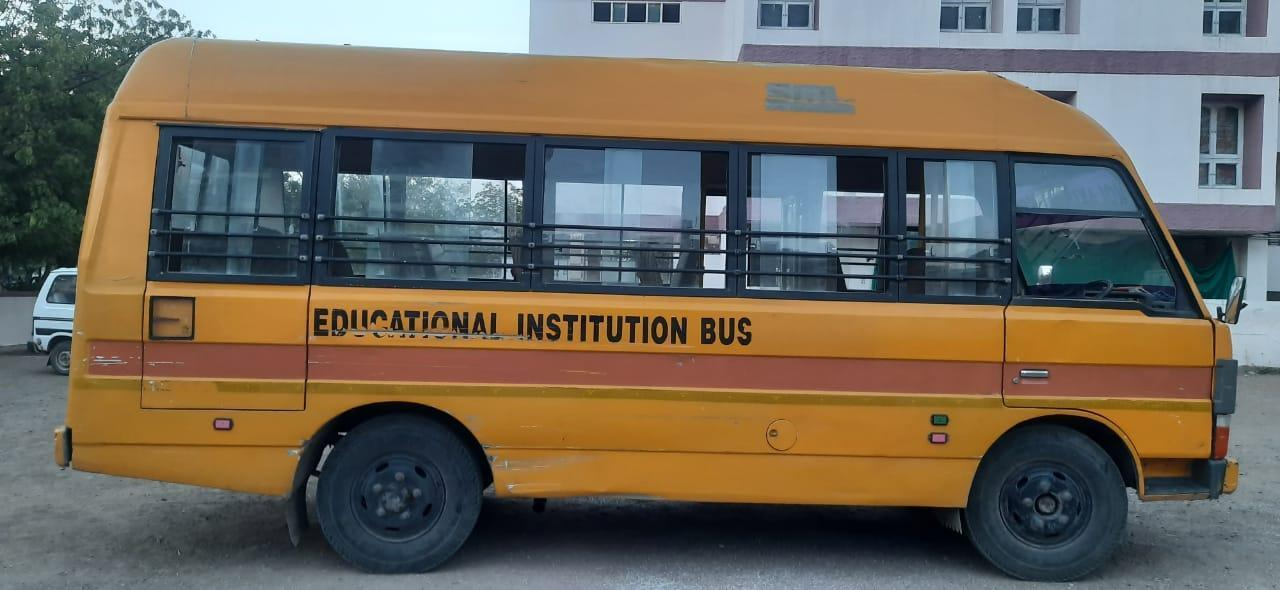Bus: (47, 15, 1250, 587)
